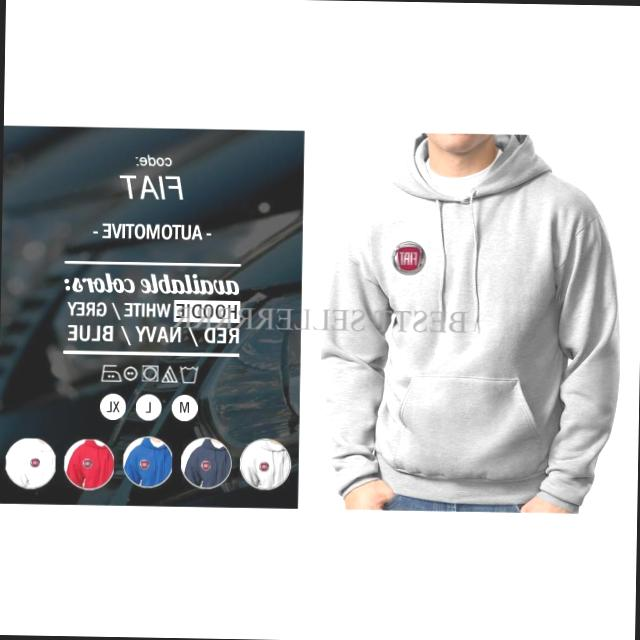sweater: (326, 131, 620, 503)
